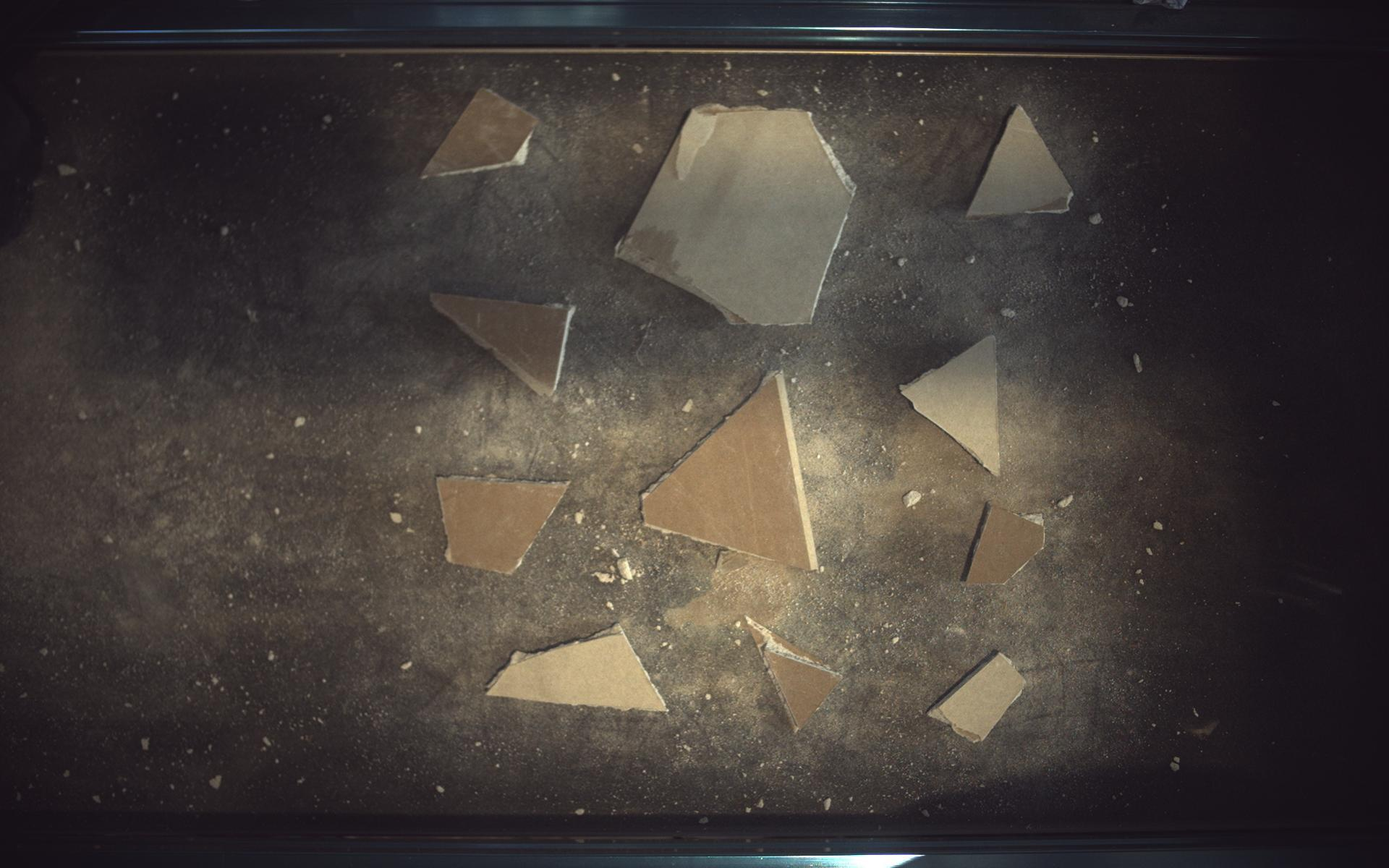gypsum_board: (616, 103, 857, 325), (643, 371, 820, 571), (487, 625, 668, 713), (430, 294, 576, 397), (901, 335, 1002, 476), (437, 477, 569, 575), (969, 104, 1075, 216), (745, 616, 844, 733), (420, 87, 539, 177), (929, 654, 1027, 744), (967, 504, 1048, 586)
